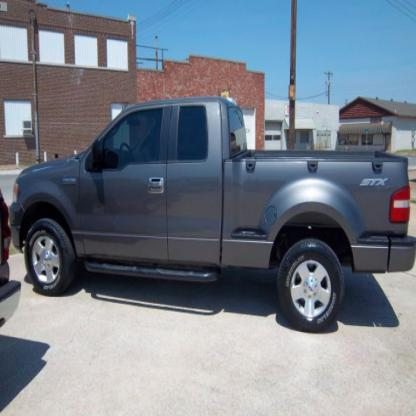car: (1, 95, 416, 303)
